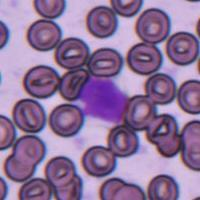L: (76, 75, 128, 125)
